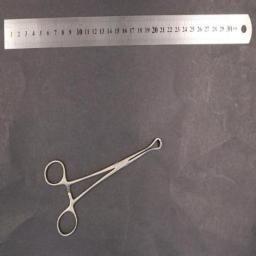Babcock Tissue Forceps: (44, 138, 162, 236)
